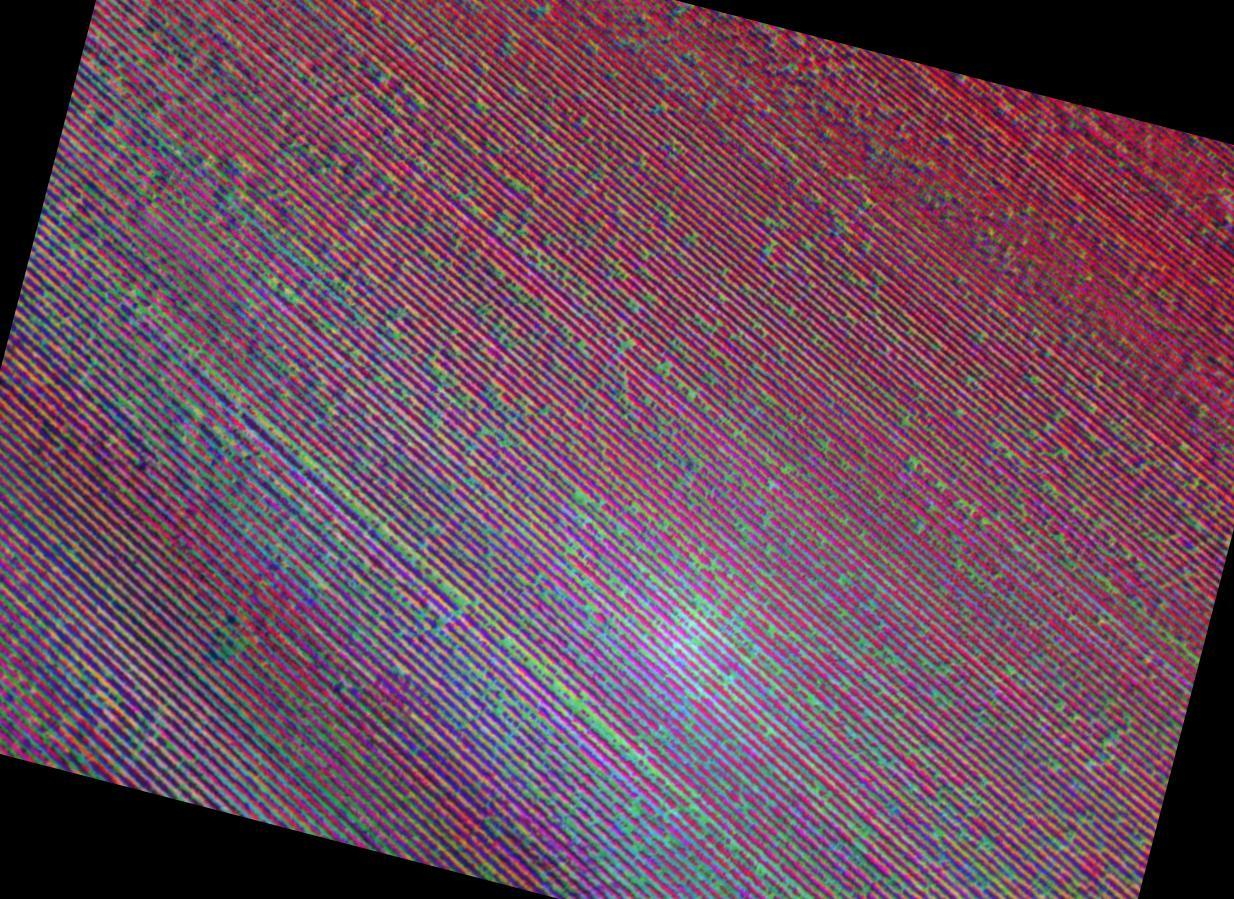dc: (401, 598, 536, 765), (566, 785, 717, 893), (81, 275, 205, 404), (663, 590, 759, 719), (233, 440, 321, 575)
